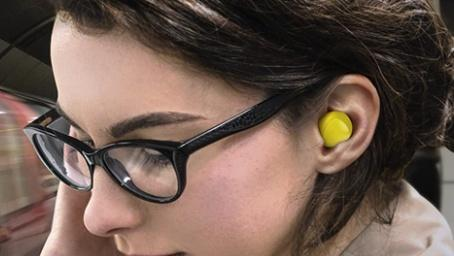earphone: (312, 106, 357, 155)
